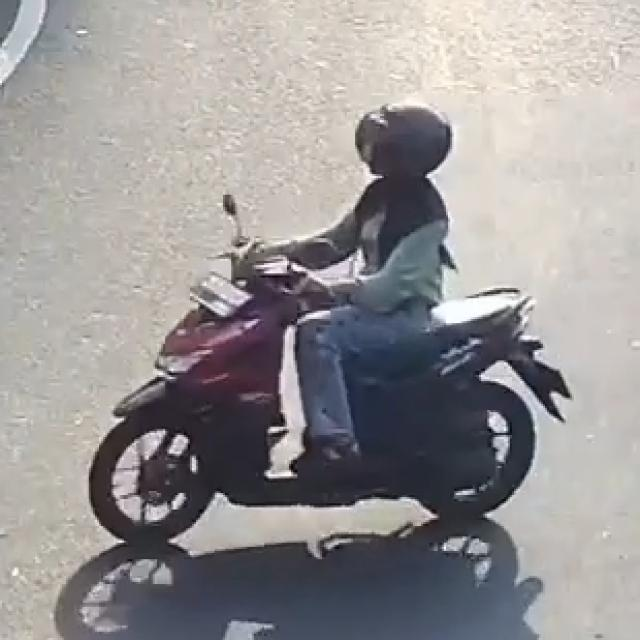helm: (351, 101, 457, 180)
motor: (87, 96, 576, 549)
spion: (278, 231, 347, 278), (212, 186, 248, 235)
